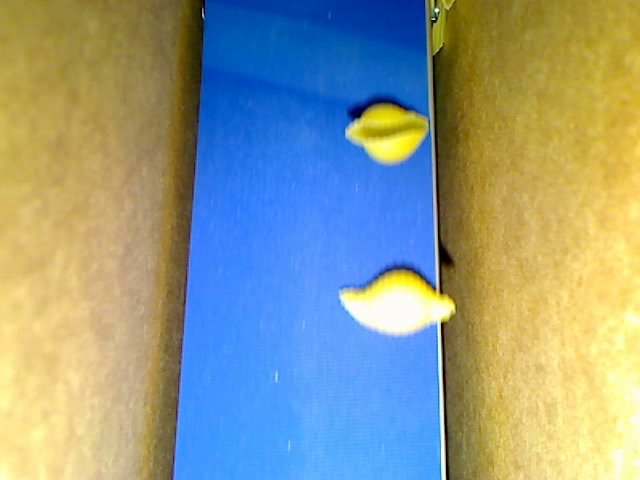penne: (424, 1, 452, 64)
shell: (335, 268, 460, 333), (342, 92, 432, 166)
